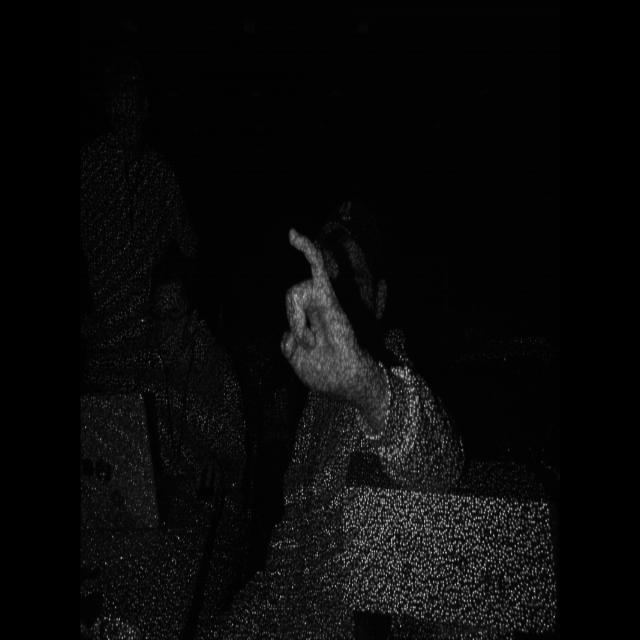D: (267, 210, 366, 402)
